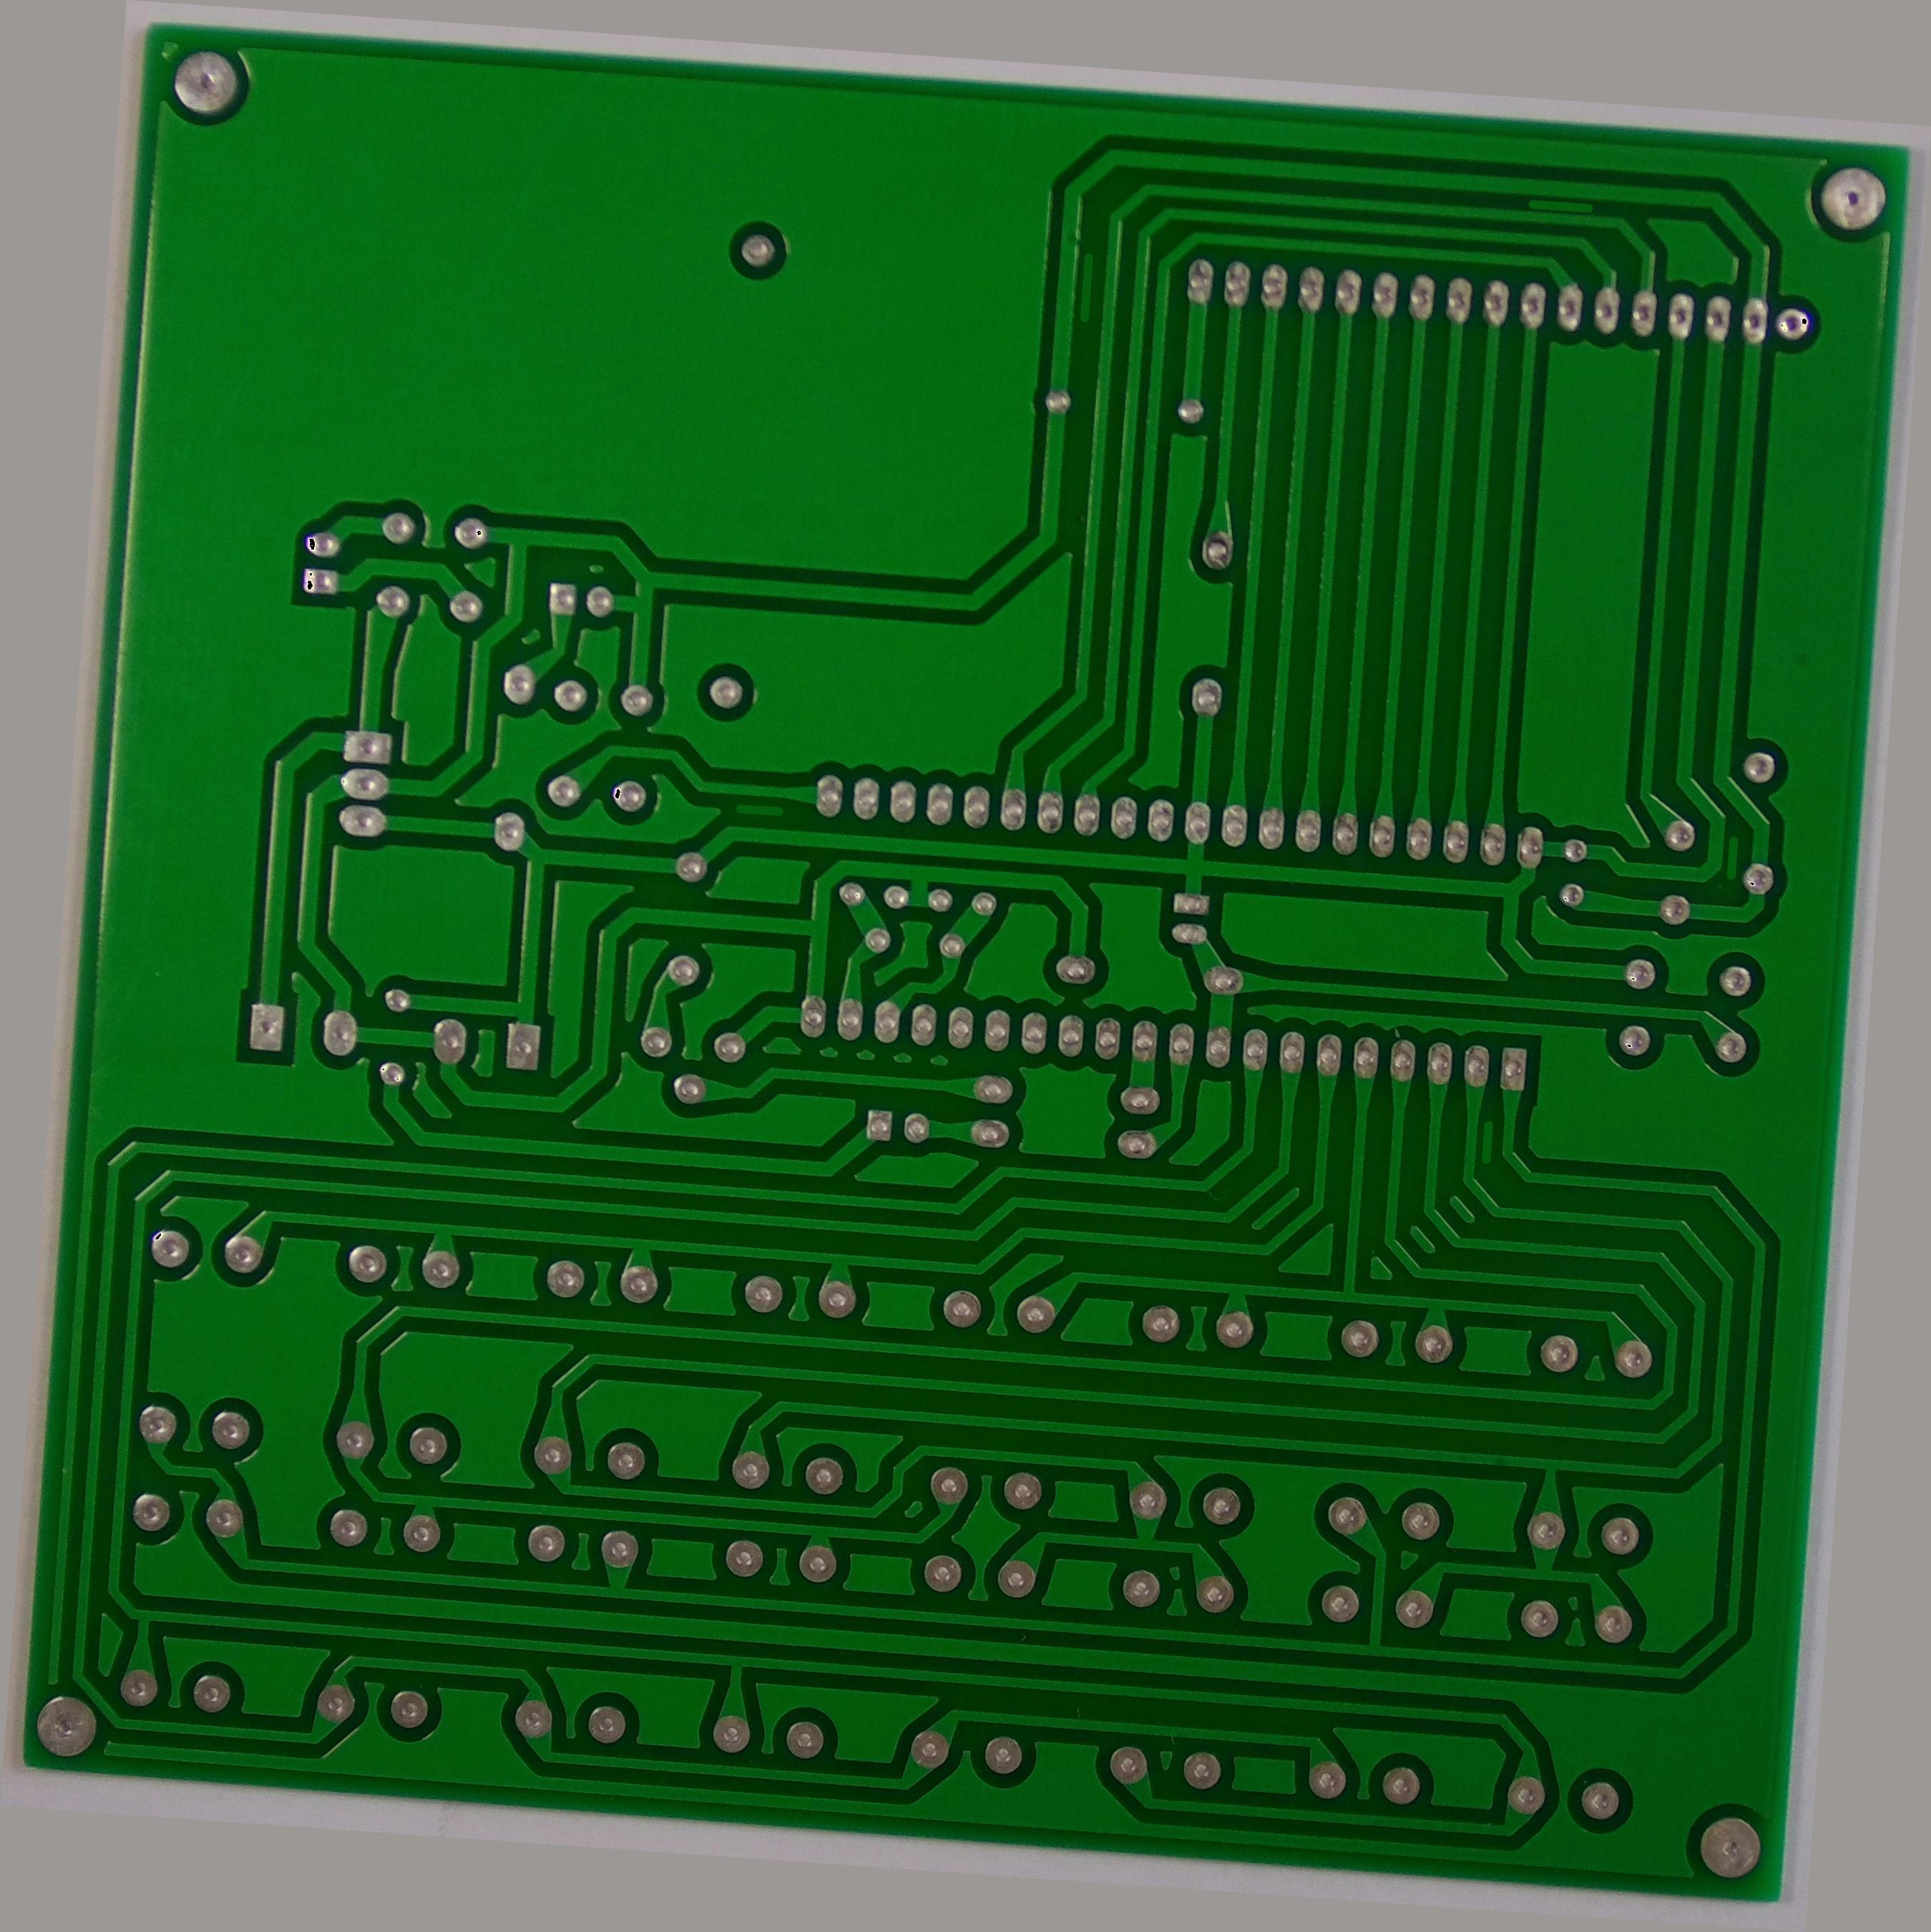spurious_copper: (1068, 244, 1111, 326), (1517, 186, 1604, 223), (1466, 1108, 1508, 1171), (1710, 826, 1751, 888), (723, 794, 790, 828)
